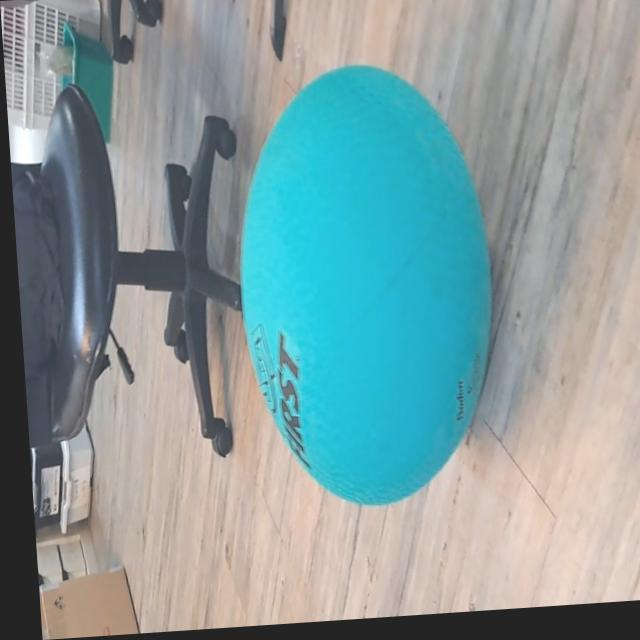ALGAE: (224, 54, 507, 516)
